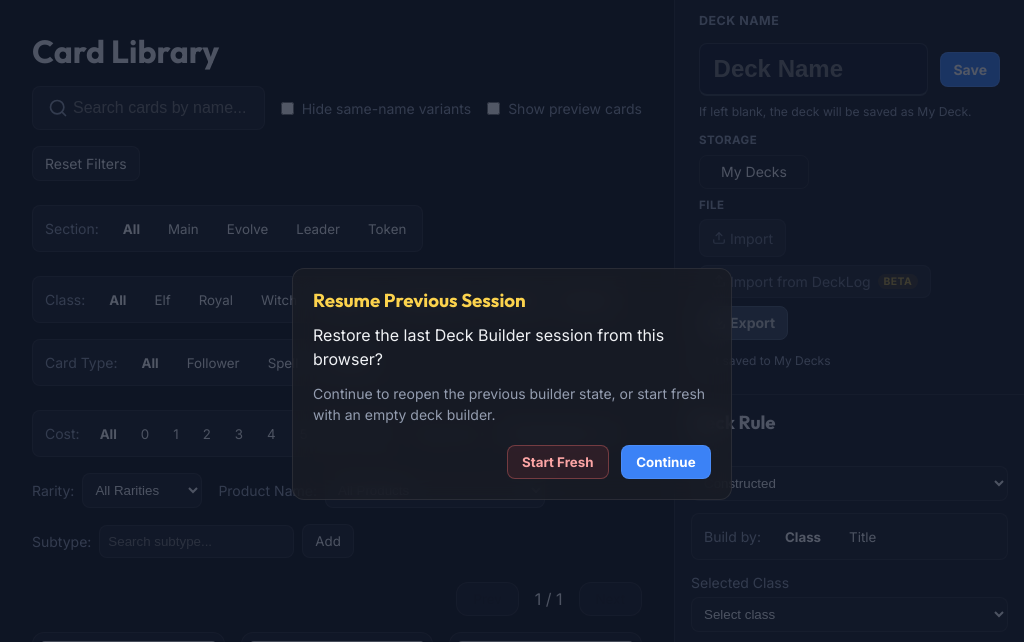
DeckBuilder › discards a previous session when Start Fresh is chosen from the restore prompt
Click the button "Start Fresh".
click(558, 462)  # box [507, 445, 609, 479]
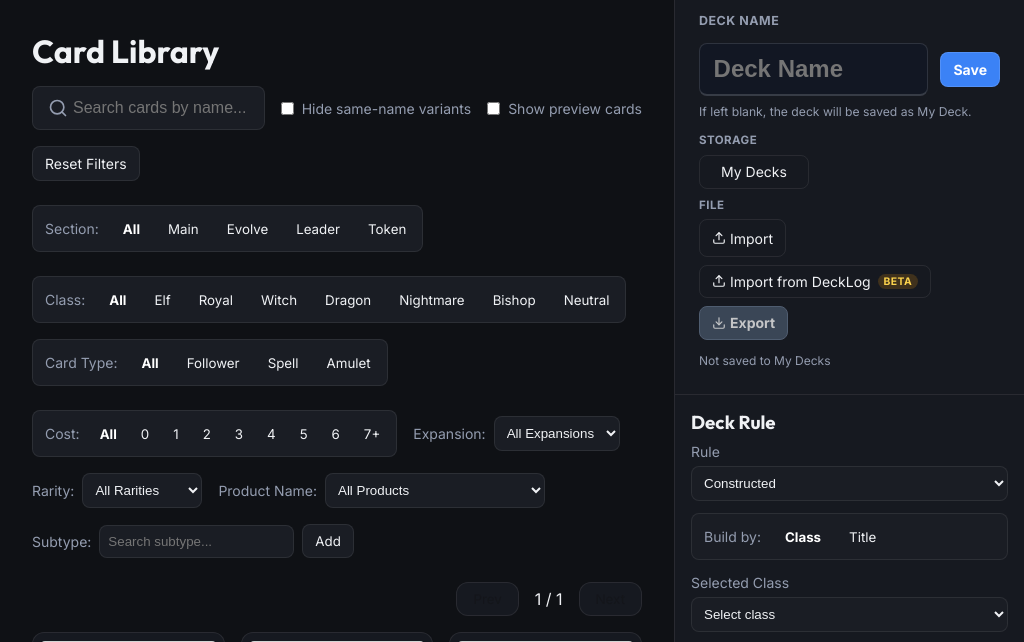
Expected: the field with placeholder "Deck Name" is empty, [699, 43, 928, 96]
Now the heading "Resume Previous Session" is gone
